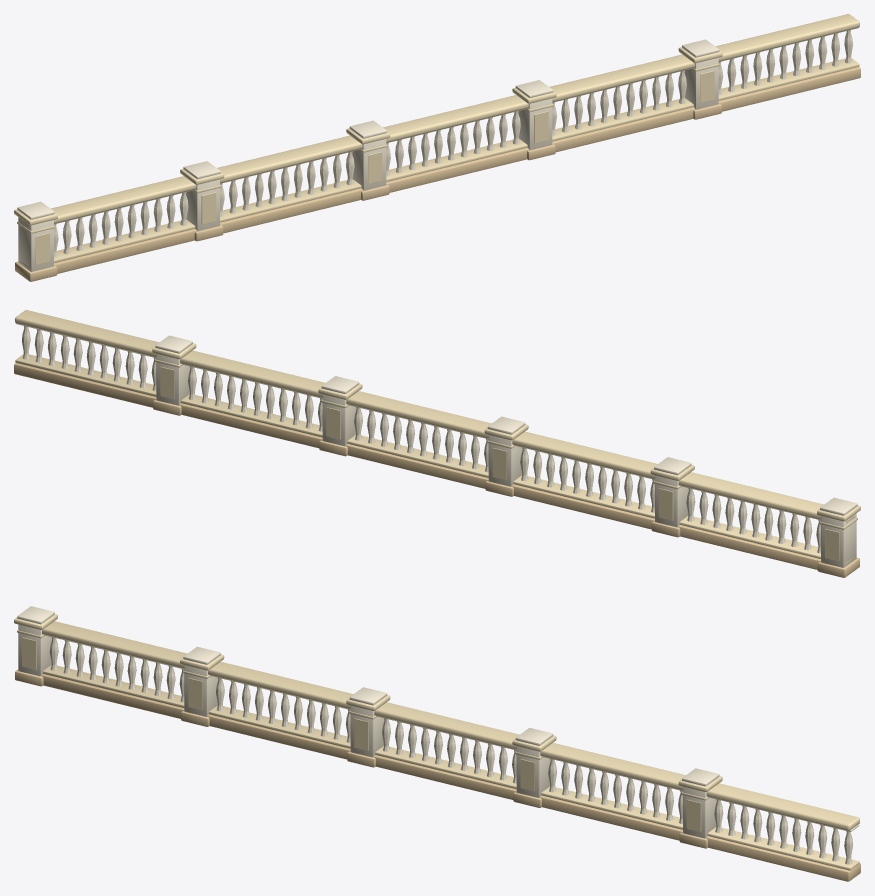
The model's file is balaustrada_15m.glb.
The picture shows the model from 3 angles, top to bottom: view 1: azimuth 30°, elevation 25°; view 2: azimuth 150°, elevation 25°; view 3: azimuth 330°, elevation 25°; orthographic projection.
Visible parts, largest first — view 1: balaustrada_15m; view 2: balaustrada_15m; view 3: balaustrada_15m.
Part boxes in pixels (<box>): balaustrada_15m: <box>14,14,860,281</box>; balaustrada_15m: <box>14,310,860,577</box>; balaustrada_15m: <box>14,606,860,881</box>.
Size of the model in its own units: 15.05 by 1.11 by 0.52.
1 material, 1 textured.
